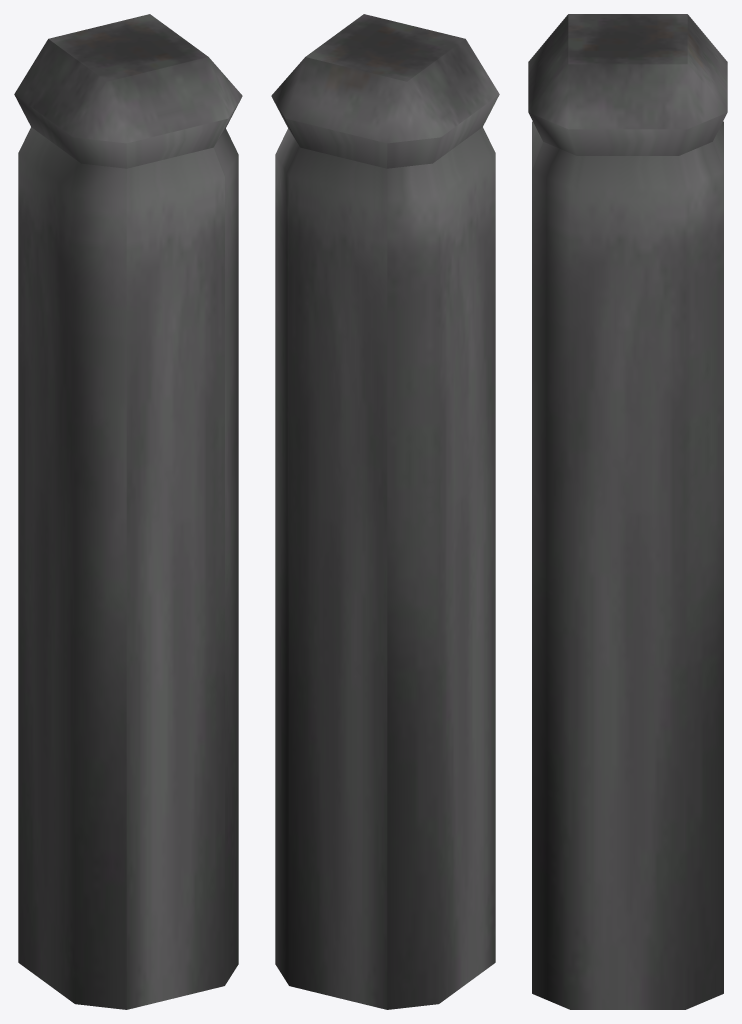
File: TinFencePostHand.fbx
3 views of the same model, side by side, from view 1: azimuth 30°, elevation 25°; view 2: azimuth 150°, elevation 25°; view 3: azimuth 270°, elevation 25° (orthographic).
Visible parts, largest first — view 1: FencePost; view 2: FencePost; view 3: FencePost.
Part boxes in pixels (x1,y1,x2,y2): FencePost: [14, 14, 242, 1009]; FencePost: [271, 14, 499, 1009]; FencePost: [528, 14, 727, 1009].
Bounding box in the file's own units: 0.1905 × 0.9813 × 0.1905.
Materials: 1 (1 with a texture image).
